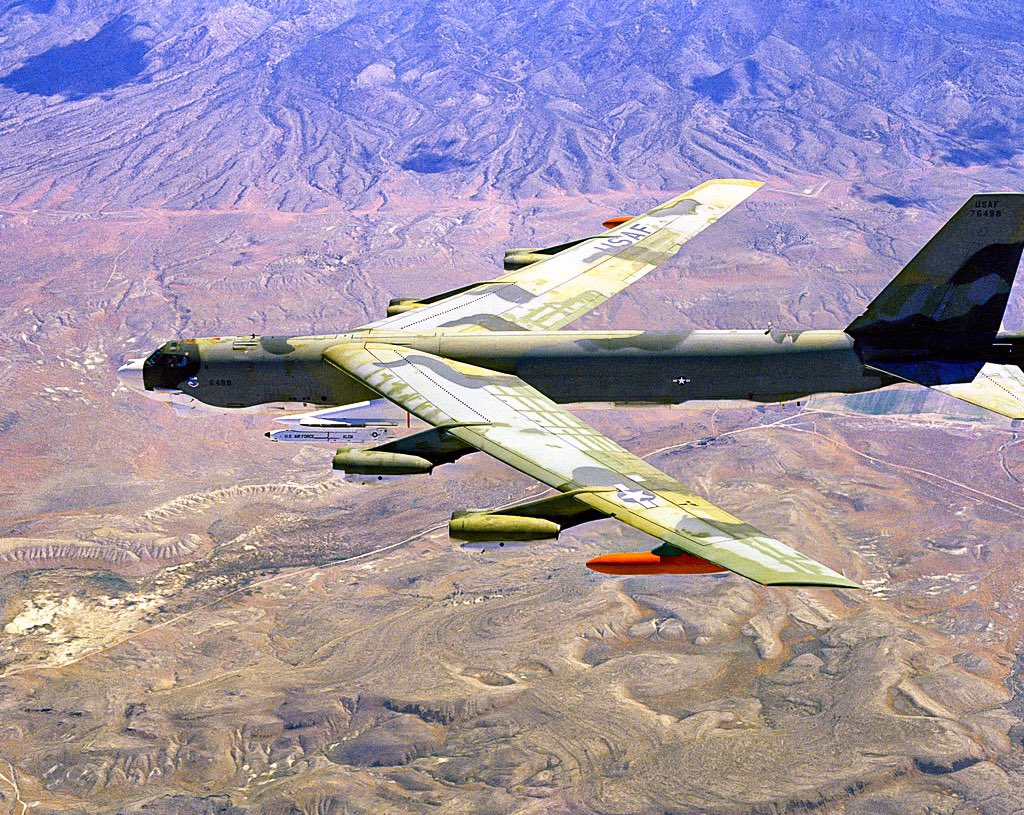B52: (115, 178, 1024, 590)
